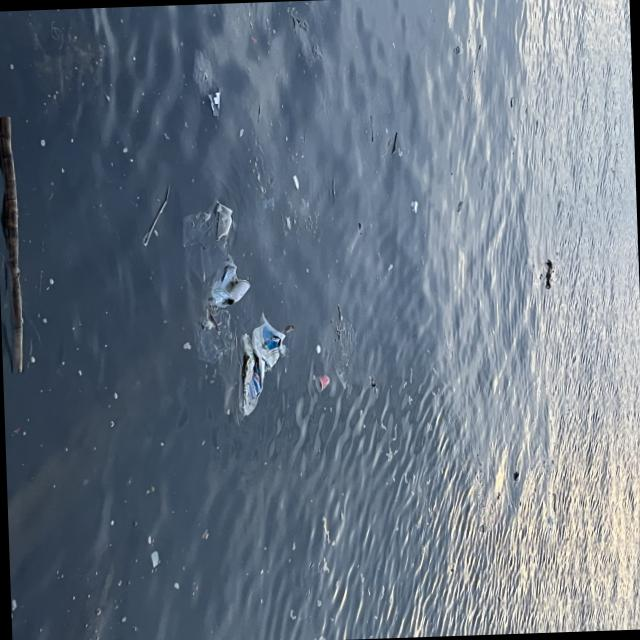foam: (410, 202, 418, 214), (293, 177, 299, 191)
plastic bag: (240, 319, 290, 417)
plastic bottle: (227, 280, 252, 307)
